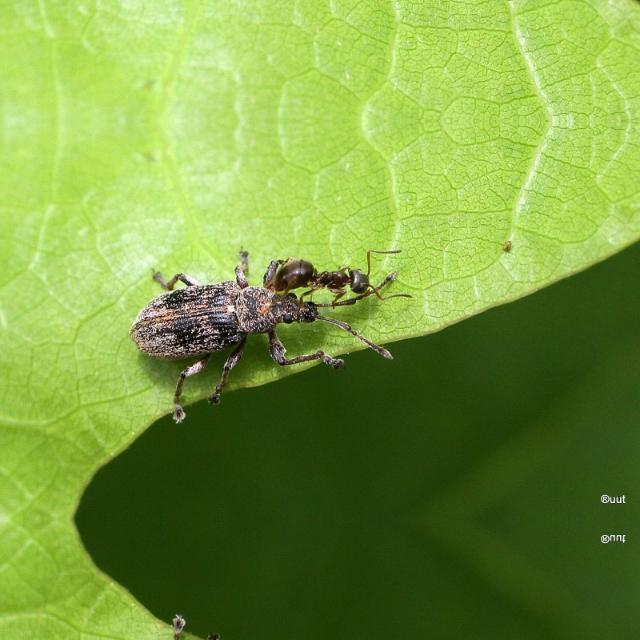Lasius: (258, 243, 409, 305)
